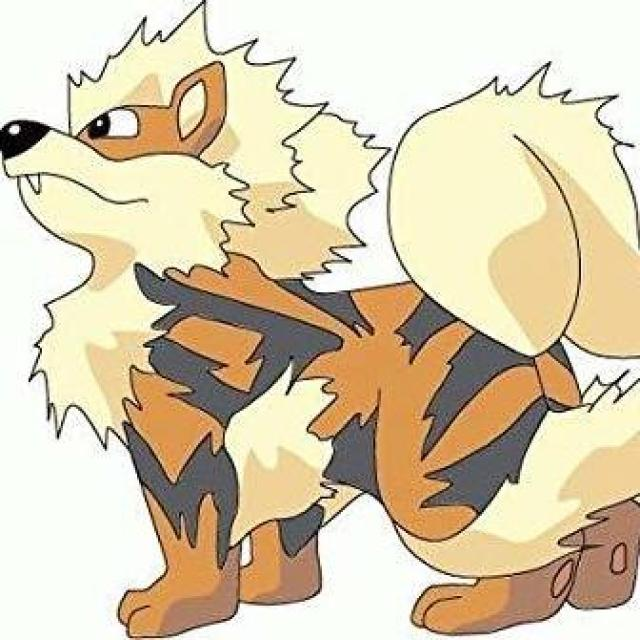Arcanine: (0, 41, 640, 602)
